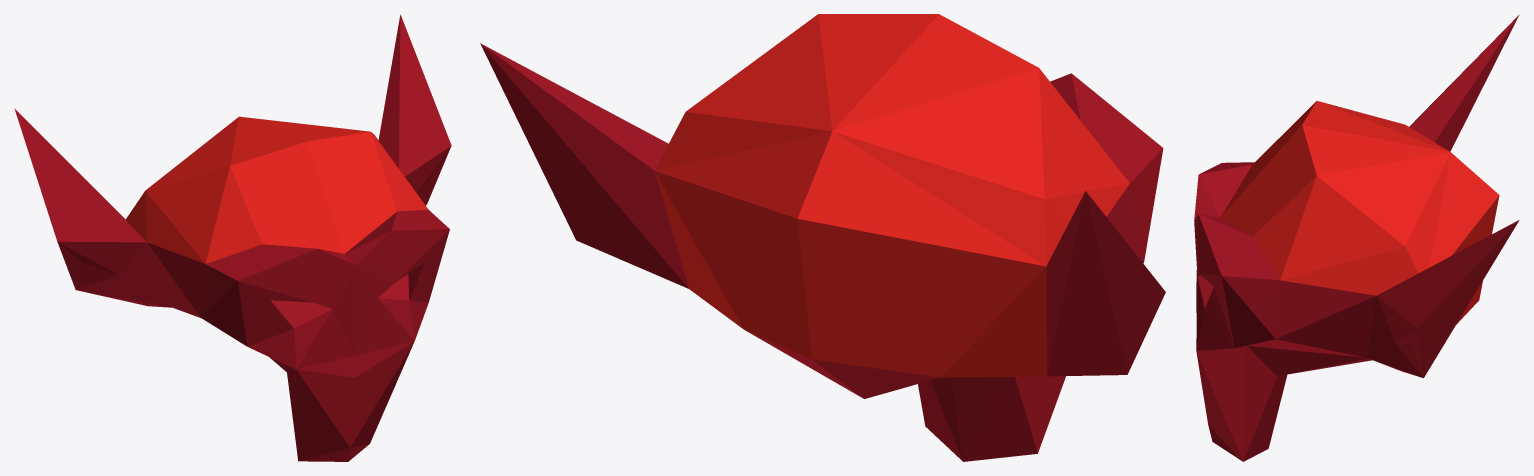
Rendered from LockSkull.fbx.
3 renders of one model, left to right at view 1: azimuth 30°, elevation 25°; view 2: azimuth 150°, elevation 25°; view 3: azimuth 270°, elevation 25°, orthographic. The views are drawn at different scales.
Parts seen in each view (by area): view 1: Suzanne; view 2: Suzanne; view 3: Suzanne.
Part boxes in pixels (x1=…): Suzanne: x1=14, y1=14, x2=451, y2=461; Suzanne: x1=480, y1=14, x2=1165, y2=461; Suzanne: x1=1194, y1=14, x2=1519, y2=461.
Bounding box in the file's own units: 267 × 197 × 175.
